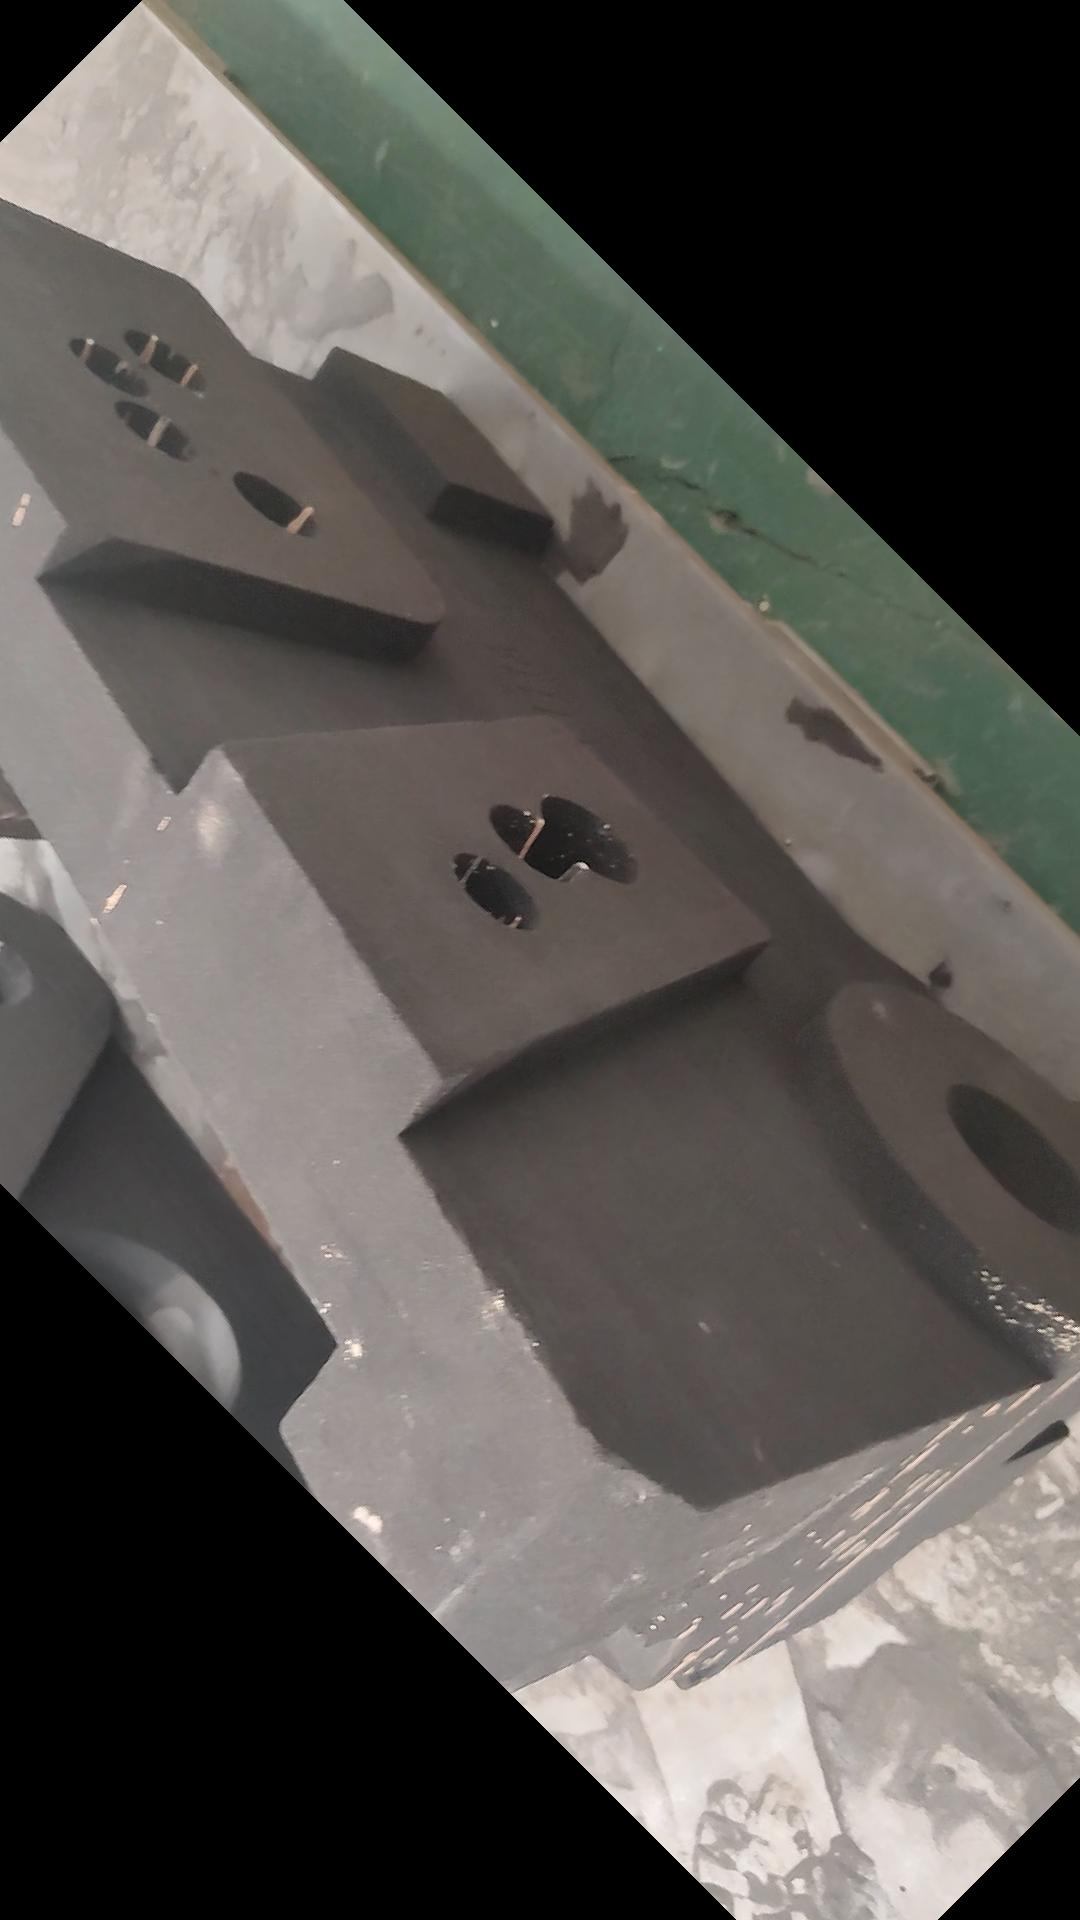pouring hole: (942, 1079, 1080, 1251), (1, 944, 40, 1001)
